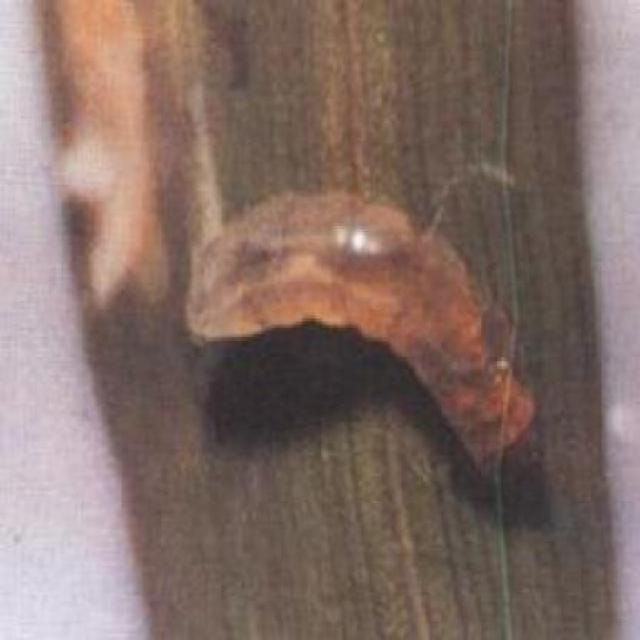whorl-maggot: (184, 185, 538, 476)
